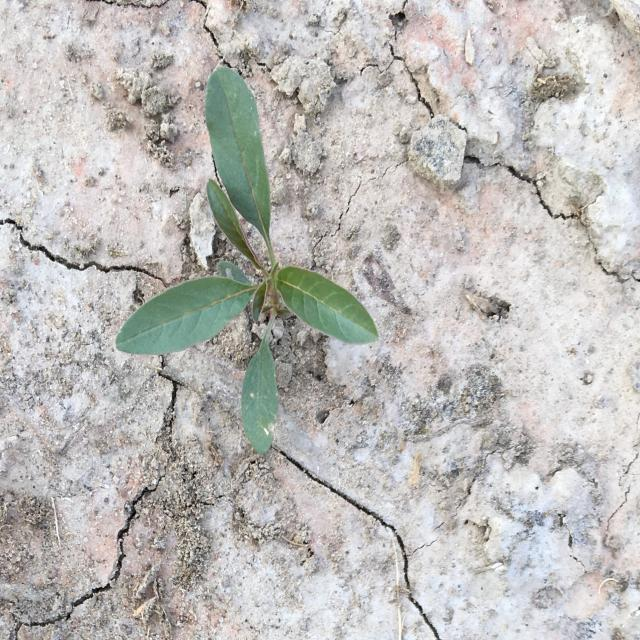Waterhemp: (115, 63, 378, 454)
